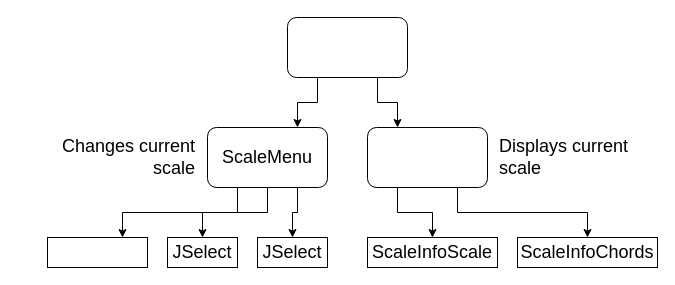
This 675x285 diagram has some shape labels left out. The centre of each missing label's shape, as x and y in pixels:
App: the point at 347,47
JCheckbox: the point at 97,252
ScaleInfo: the point at 427,157
